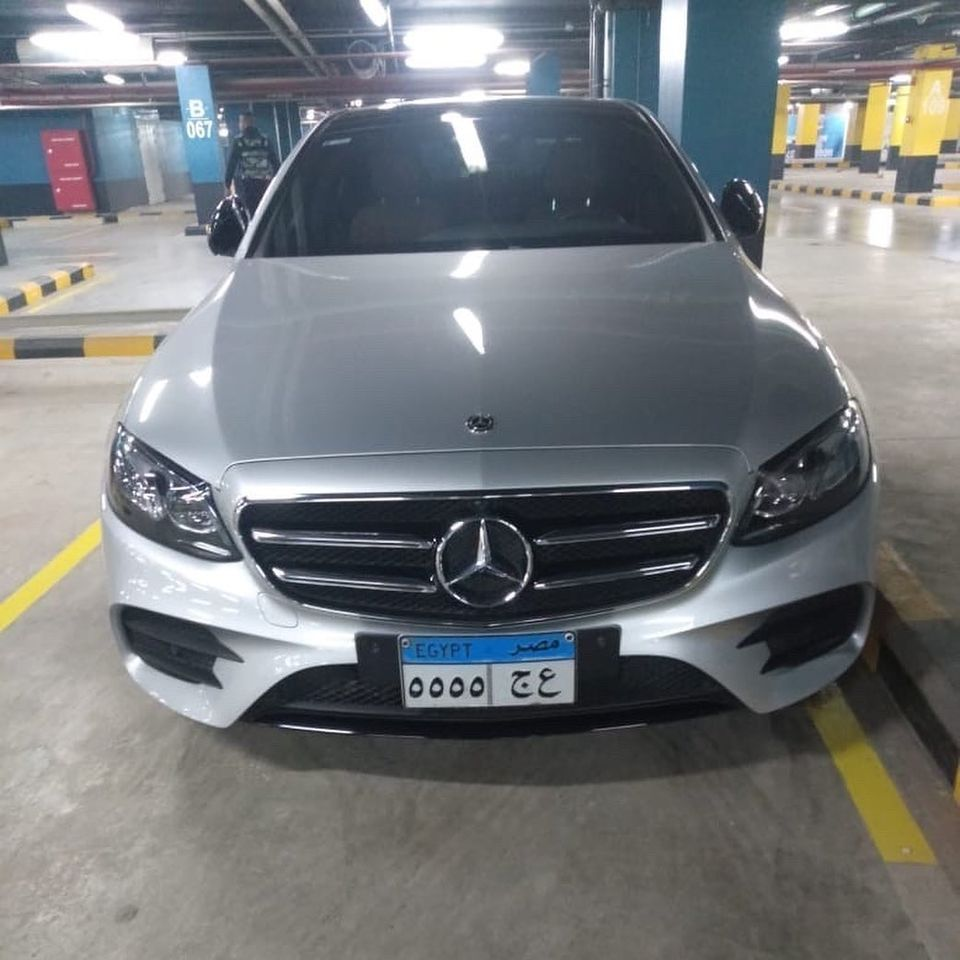carpl: (402, 639, 571, 711)
